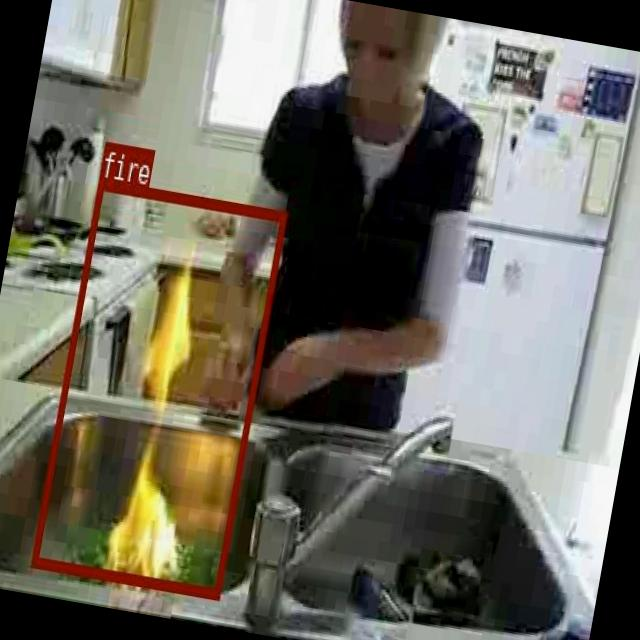fire: (30, 176, 287, 597)
